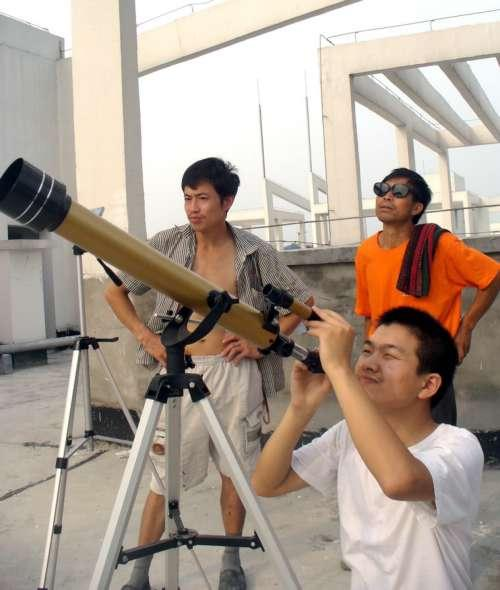person: (250, 307, 484, 590)
